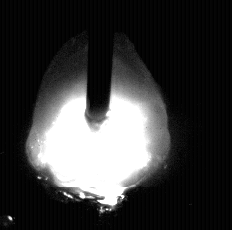arame: (87, 0, 112, 131)
poca: (28, 0, 172, 230)
